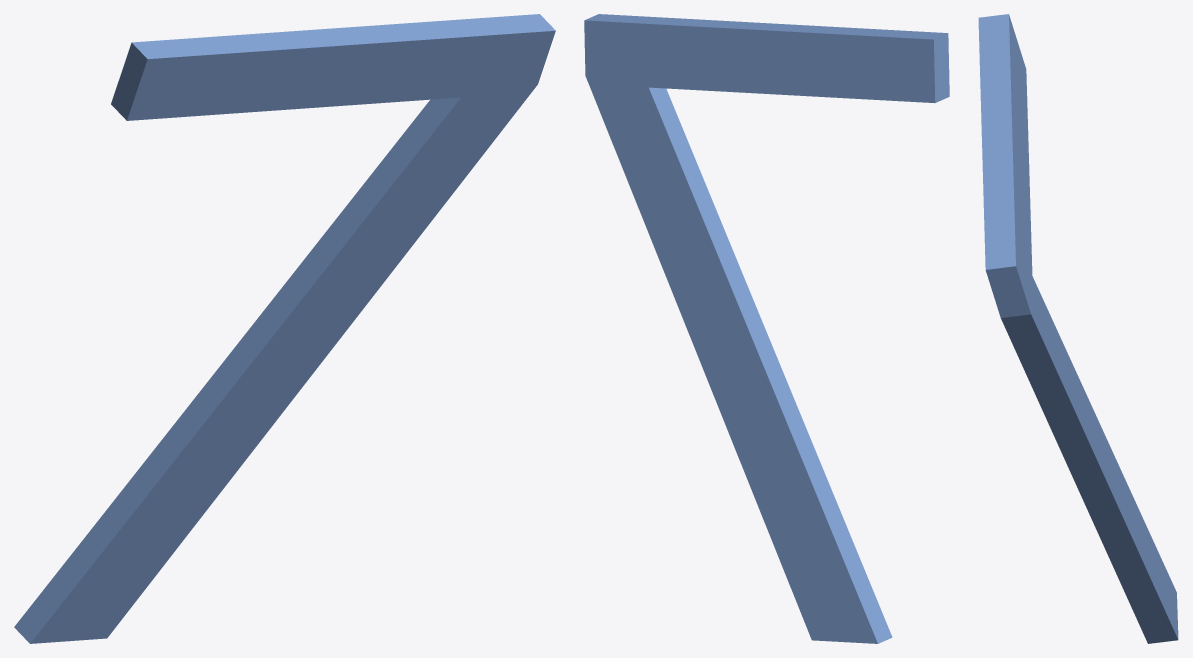
Rendered from New_Number_7.gltf.
3 views of the same model, side by side, from view 1: azimuth 30°, elevation 25°; view 2: azimuth 150°, elevation 25°; view 3: azimuth 270°, elevation 25° (orthographic). The views are drawn at different scales.
Parts seen in each view (by area): view 1: Part 106; view 2: Part 106; view 3: Part 106.
Part boxes in pixels (x1,y1,x2,y2): Part 106: (14,14,555,643); Part 106: (584,14,949,643); Part 106: (978,14,1178,643).
Size of the model in its own units: 0.00384 by 0.00555 by 0.00166.
